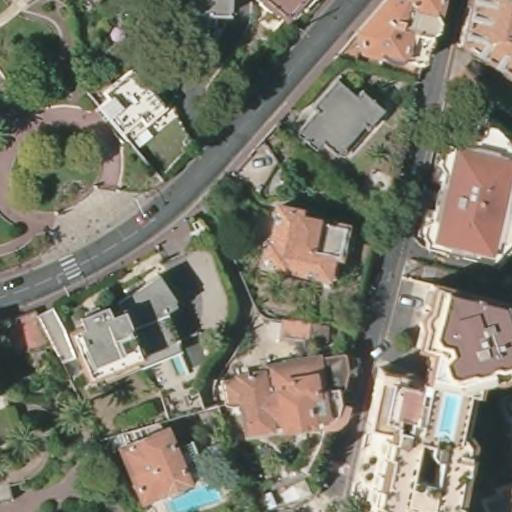pool: (165, 478, 219, 508), (439, 389, 462, 442)
